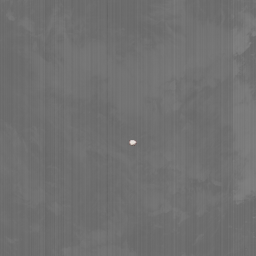Target: (128, 140, 136, 145)
